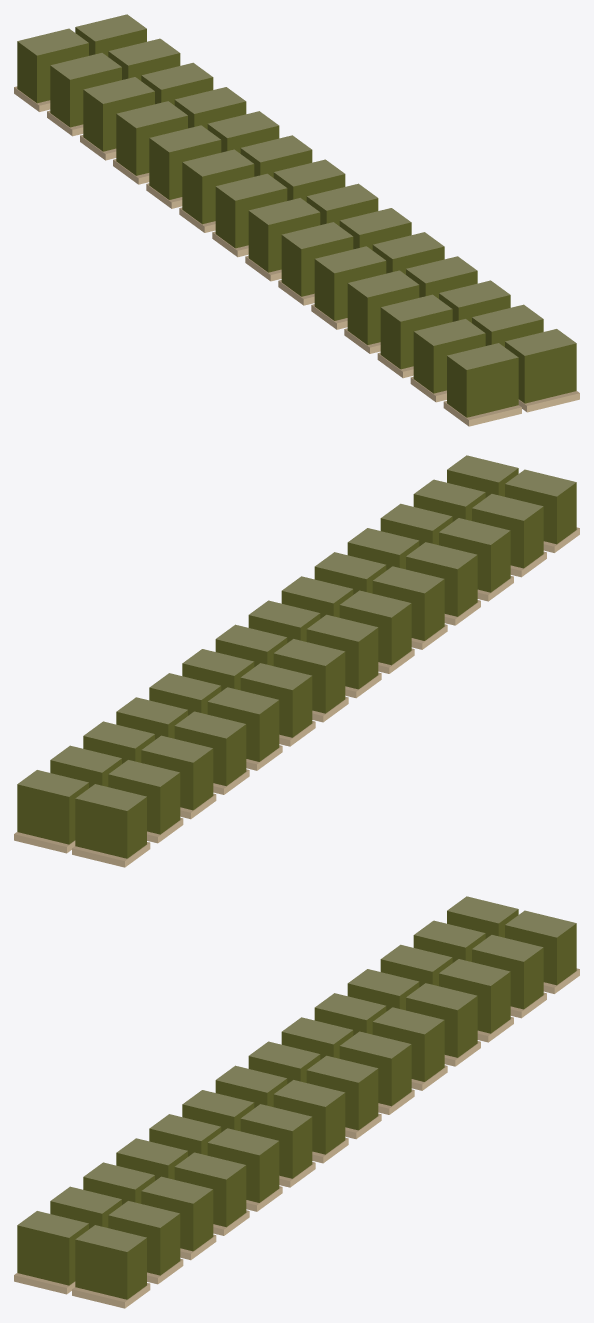
The model's file is SM_CargaMunicion_Lleno_LOD1.fbx.
3 views of the same model, one above another, from view 1: azimuth 30°, elevation 25°; view 2: azimuth 150°, elevation 25°; view 3: azimuth 330°, elevation 25° (orthographic).
Visible parts, largest first — view 1: SM_carga_vagon_v0_LOD1; view 2: SM_carga_vagon_v0_LOD1; view 3: SM_carga_vagon_v0_LOD1.
Boxes of the visible parts, x1,y1,x2,y2 form: SM_carga_vagon_v0_LOD1: [14, 14, 579, 426]; SM_carga_vagon_v0_LOD1: [14, 455, 579, 867]; SM_carga_vagon_v0_LOD1: [14, 896, 579, 1308].
Size of the model in its own units: 2.52 by 1.18 by 17.9.
